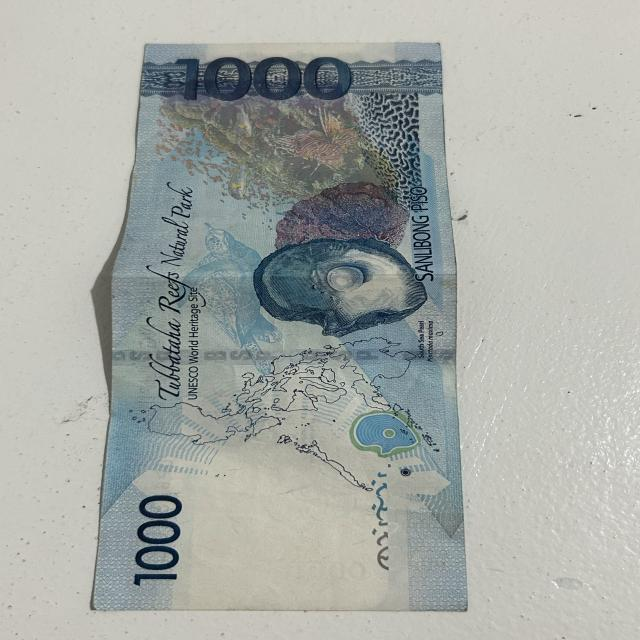1000_pearl: (255, 246, 422, 325)
1000_pearl_watermark: (354, 413, 416, 452)
